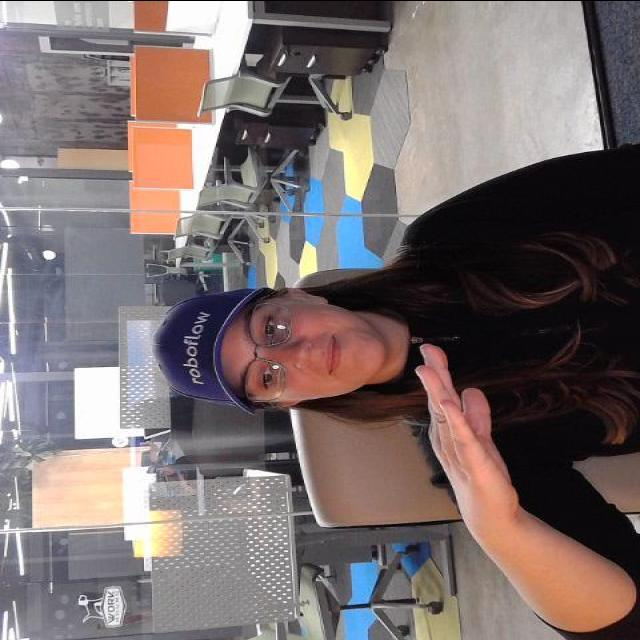Paper: (402, 339, 516, 518)
